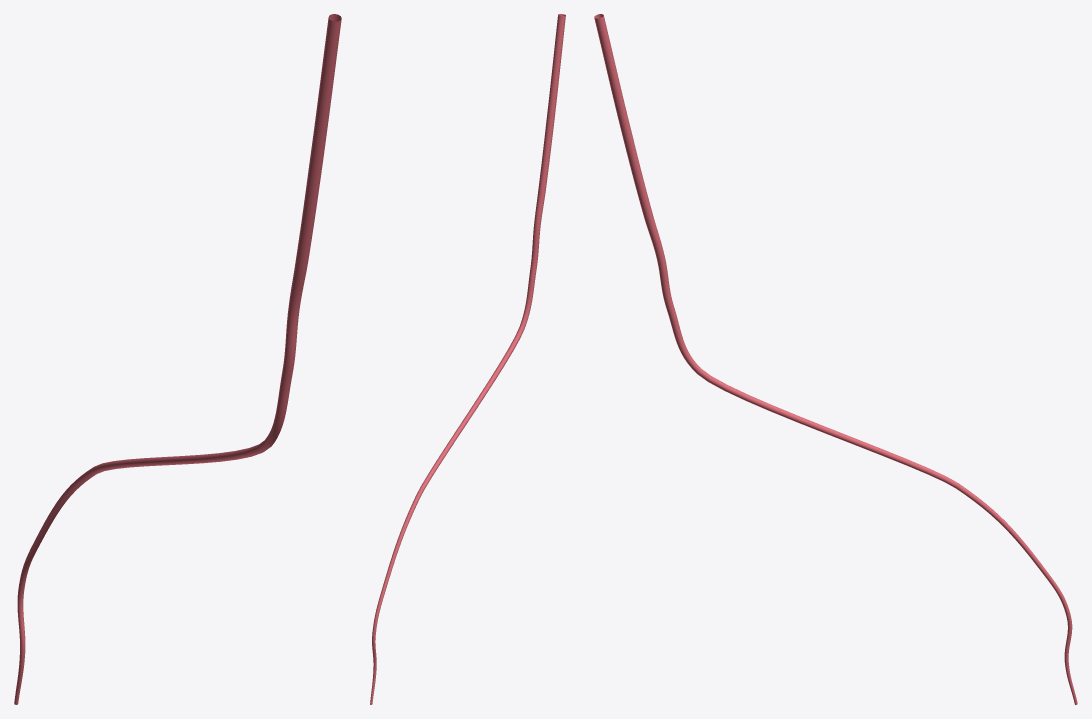
3 renders of one model, left to right at view 1: azimuth 30°, elevation 25°; view 2: azimuth 150°, elevation 25°; view 3: azimuth 270°, elevation 25°, orthographic. The views are drawn at different scales.
Parts seen in each view (by area): view 1: ZA_f902dffc5f78a95e; view 2: ZA_f902dffc5f78a95e; view 3: ZA_f902dffc5f78a95e.
Boxes of the visible parts, <box> form: ZA_f902dffc5f78a95e: <box>14,14,341,704</box>; ZA_f902dffc5f78a95e: <box>370,14,565,704</box>; ZA_f902dffc5f78a95e: <box>594,14,1077,704</box>.
Bounding box in the file's own units: 0.00201 × 0.1535 × 0.0976.
